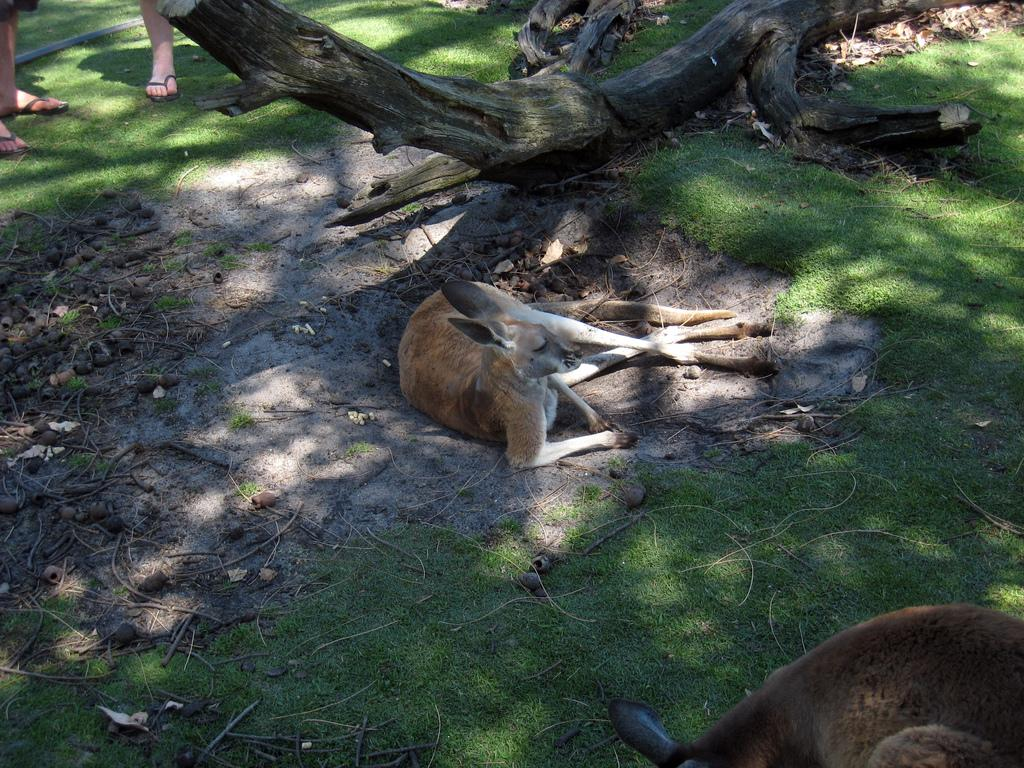kangaroo: (398, 276, 775, 471), (606, 604, 1022, 768)
